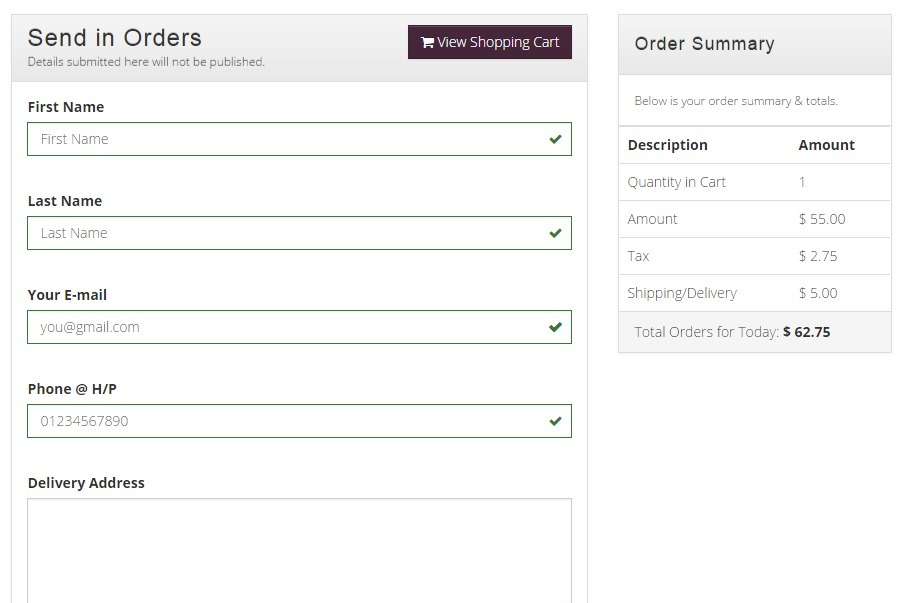_form_: (19, 5, 578, 461)
button: (404, 21, 572, 61)
field: (24, 307, 573, 346), (26, 402, 573, 441), (27, 213, 575, 251), (26, 119, 573, 157)
field_with_label: (21, 287, 575, 348), (24, 384, 575, 445), (22, 100, 575, 159), (25, 193, 576, 252)
